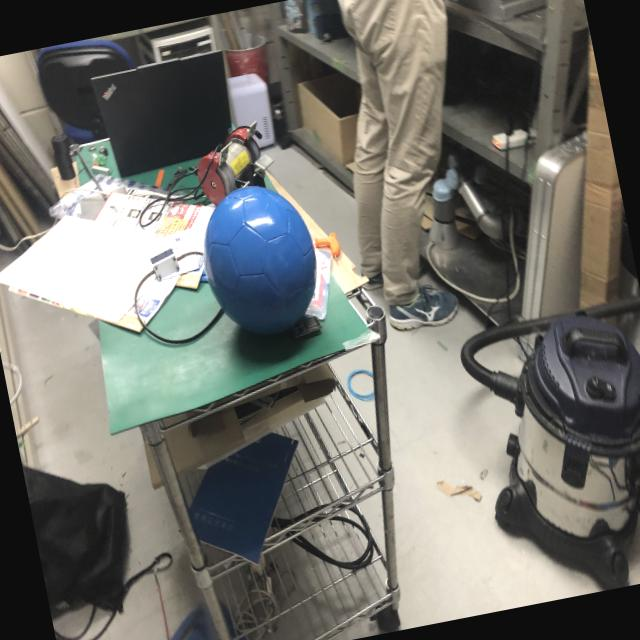blue_ball: (192, 173, 331, 350)
